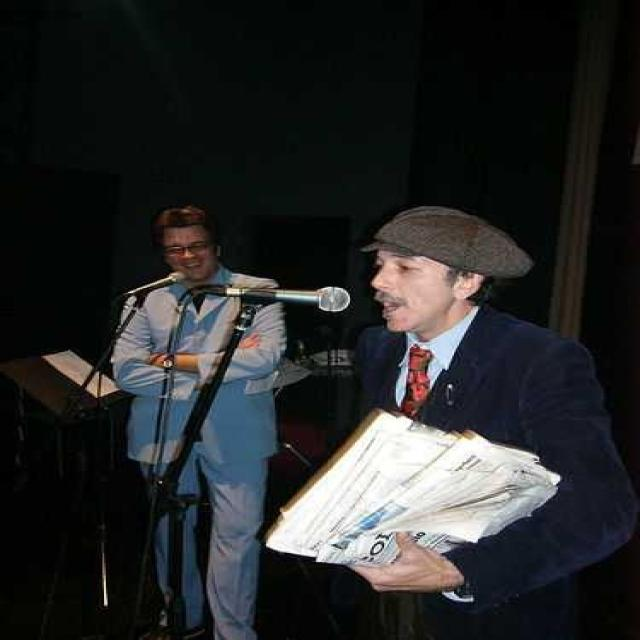microphone: (204, 284, 352, 312), (120, 272, 182, 302)
